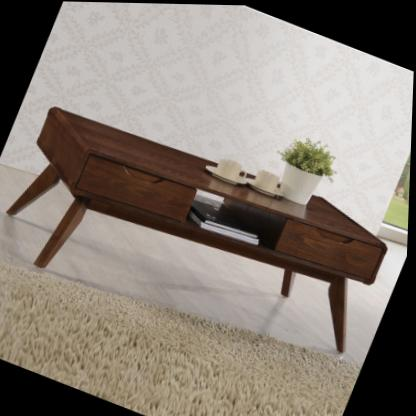TV stand: (1, 89, 400, 355)
